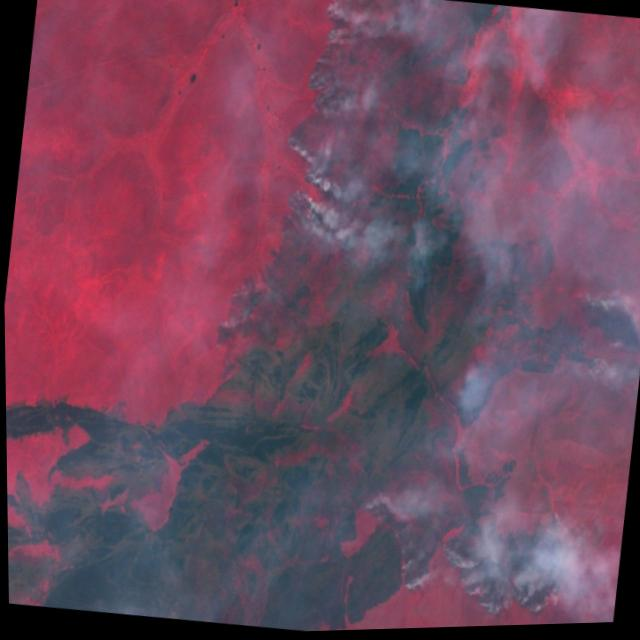fire: (206, 0, 360, 364), (344, 474, 582, 632), (559, 290, 640, 409)
